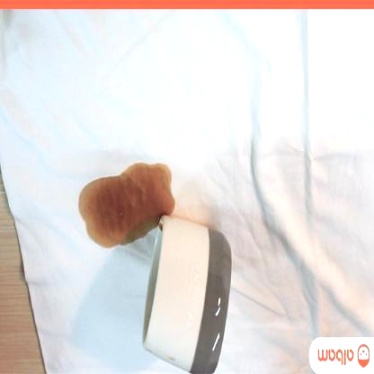coffee: (104, 181, 153, 236)
